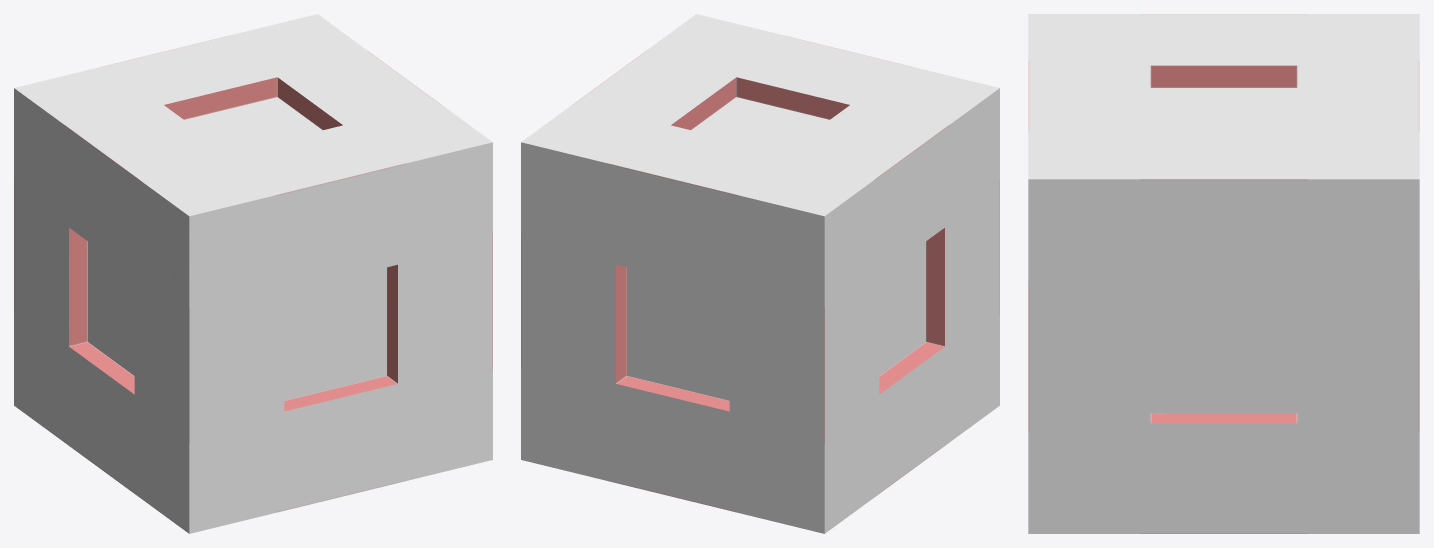
The model's file is square_gcube.glb.
3 views of the same model, side by side, from view 1: azimuth 30°, elevation 25°; view 2: azimuth 150°, elevation 25°; view 3: azimuth 270°, elevation 25° (orthographic). The views are drawn at different scales.
Visible parts, largest first — view 1: Square_GCube; view 2: Square_GCube; view 3: Square_GCube.
Boxes of the visible parts, bbox=[...] form: Square_GCube: bbox=[14, 14, 492, 533]; Square_GCube: bbox=[521, 14, 999, 533]; Square_GCube: bbox=[1028, 14, 1419, 533].
Bounding box in the file's own units: 0.8 × 0.8 × 0.8.
Materials: 1 (1 with a texture image).
